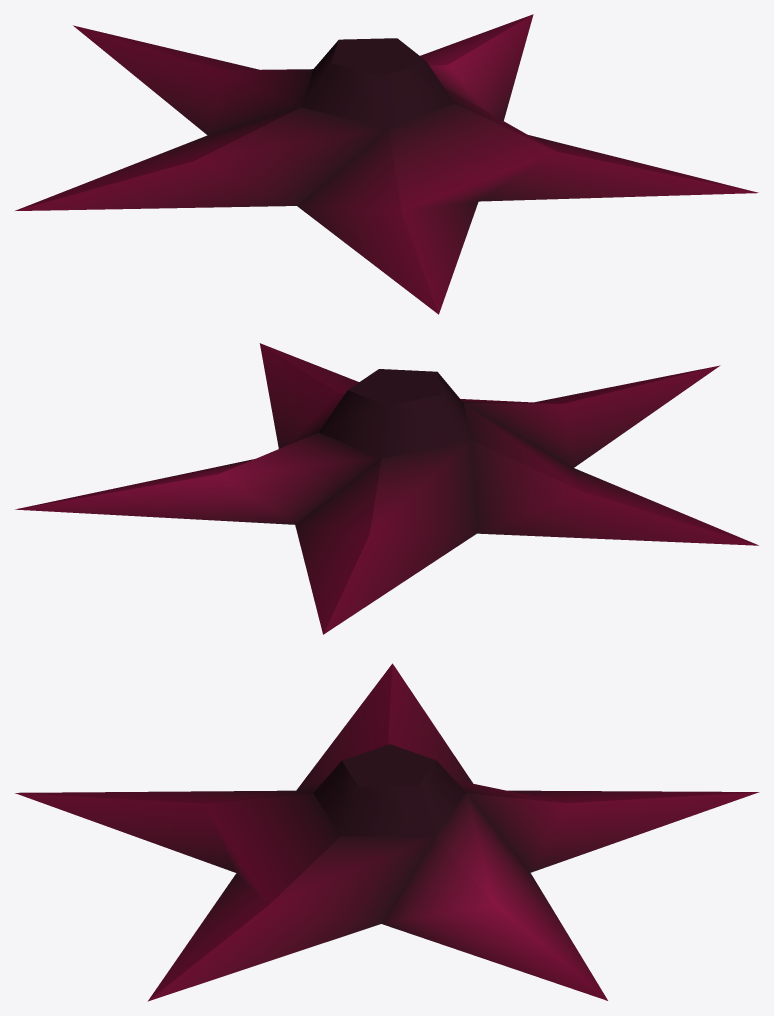
Rendered from RedFlower2.fbx.
The picture shows the model from 3 angles, top to bottom: view 1: azimuth 30°, elevation 25°; view 2: azimuth 150°, elevation 25°; view 3: azimuth 270°, elevation 25°; orthographic projection. The views are drawn at different scales.
Visible parts, largest first — view 1: pSphere2; view 2: pSphere2; view 3: pSphere2.
Boxes of the visible parts, x1,y1,x2,y2 form: pSphere2: [15, 14, 758, 314]; pSphere2: [15, 343, 758, 634]; pSphere2: [15, 663, 759, 1001].
Size of the model in its own units: 3.55 by 0.6123 by 3.71.
